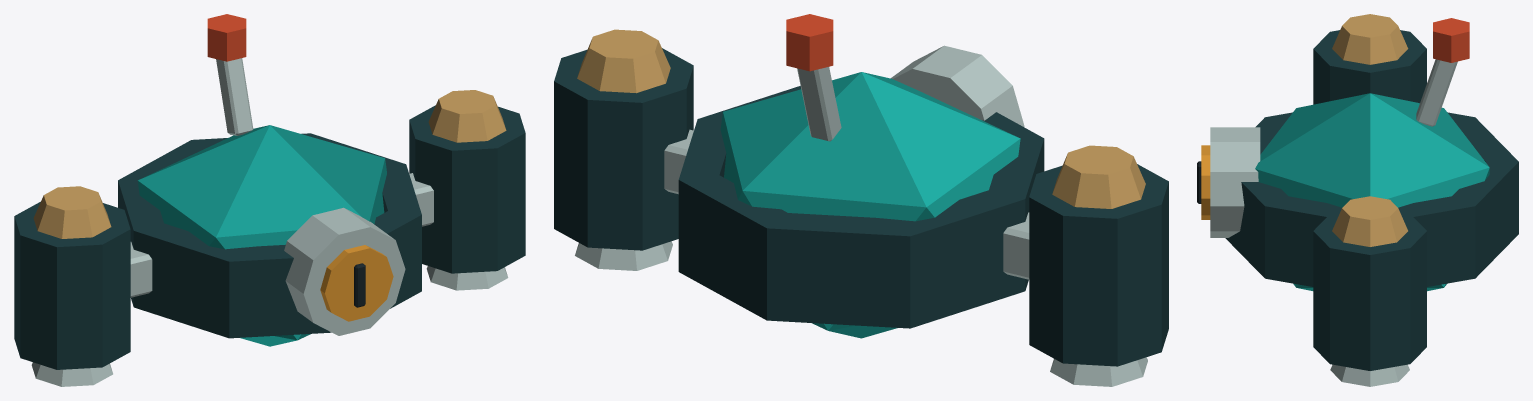
The model's file is keeper_drone.glb.
3 views of the same model, side by side, from view 1: azimuth 30°, elevation 25°; view 2: azimuth 150°, elevation 25°; view 3: azimuth 270°, elevation 25° (orthographic). The views are drawn at different scales.
Parts seen in each view (by area): view 1: SM_Keeper_Drone; view 2: SM_Keeper_Drone; view 3: SM_Keeper_Drone.
Part boxes in pixels (bbox=[...]): SM_Keeper_Drone: bbox=[14, 14, 525, 386]; SM_Keeper_Drone: bbox=[554, 14, 1168, 386]; SM_Keeper_Drone: bbox=[1197, 14, 1518, 386].
Size of the model in its own units: 0.872 by 0.487 by 0.515.
